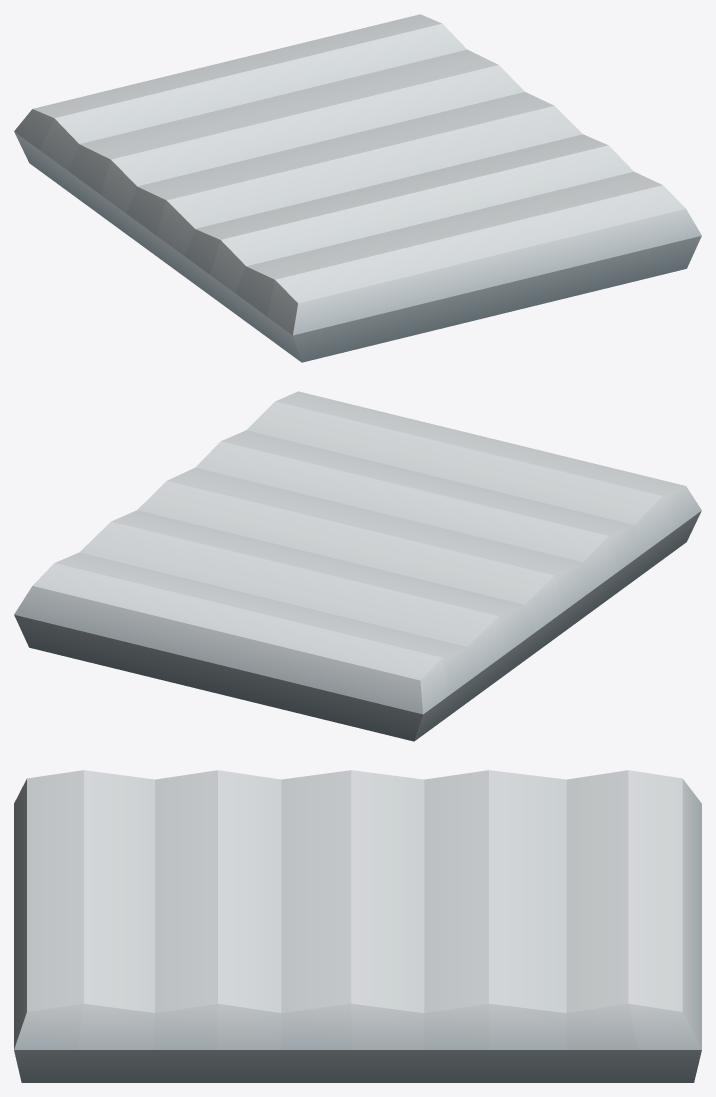
The model's file is crab_stick_002.fbx.
The picture shows the model from 3 angles, top to bottom: view 1: azimuth 30°, elevation 25°; view 2: azimuth 150°, elevation 25°; view 3: azimuth 270°, elevation 25°; orthographic projection. The views are drawn at different scales.
Parts seen in each view (by area): view 1: crab_stick_002; view 2: crab_stick_002; view 3: crab_stick_002.
Boxes of the visible parts, x1,y1,x2,y2 form: crab_stick_002: (14, 14, 701, 362); crab_stick_002: (14, 391, 701, 741); crab_stick_002: (14, 770, 701, 1082).
Bounding box in the file's own units: 11.64 × 13.74 × 1.76.
